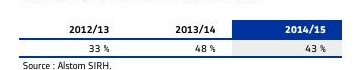table: (0, 0, 362, 70)
